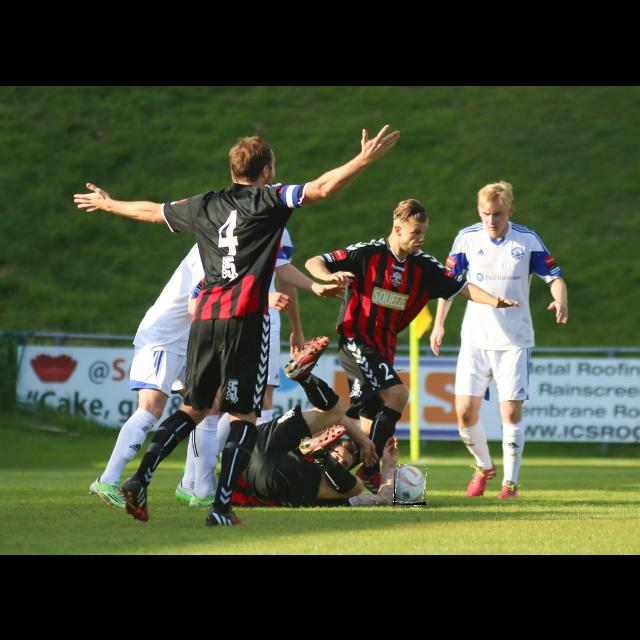Football: (394, 465, 426, 505)
